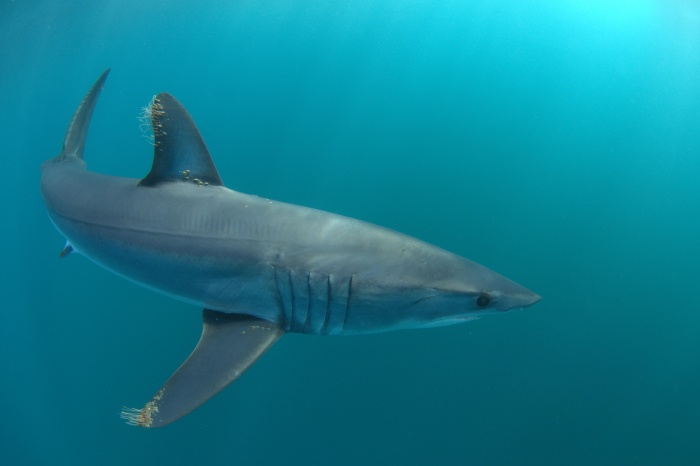Mako: (32, 64, 558, 436)
